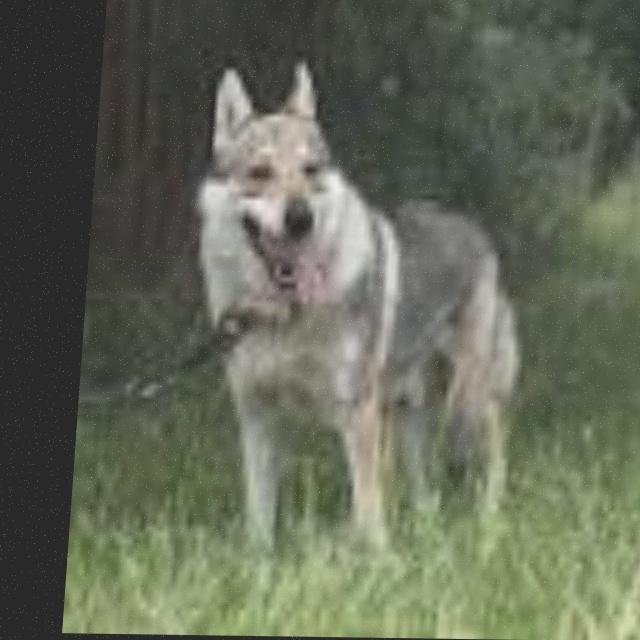dog: (153, 66, 568, 536)
